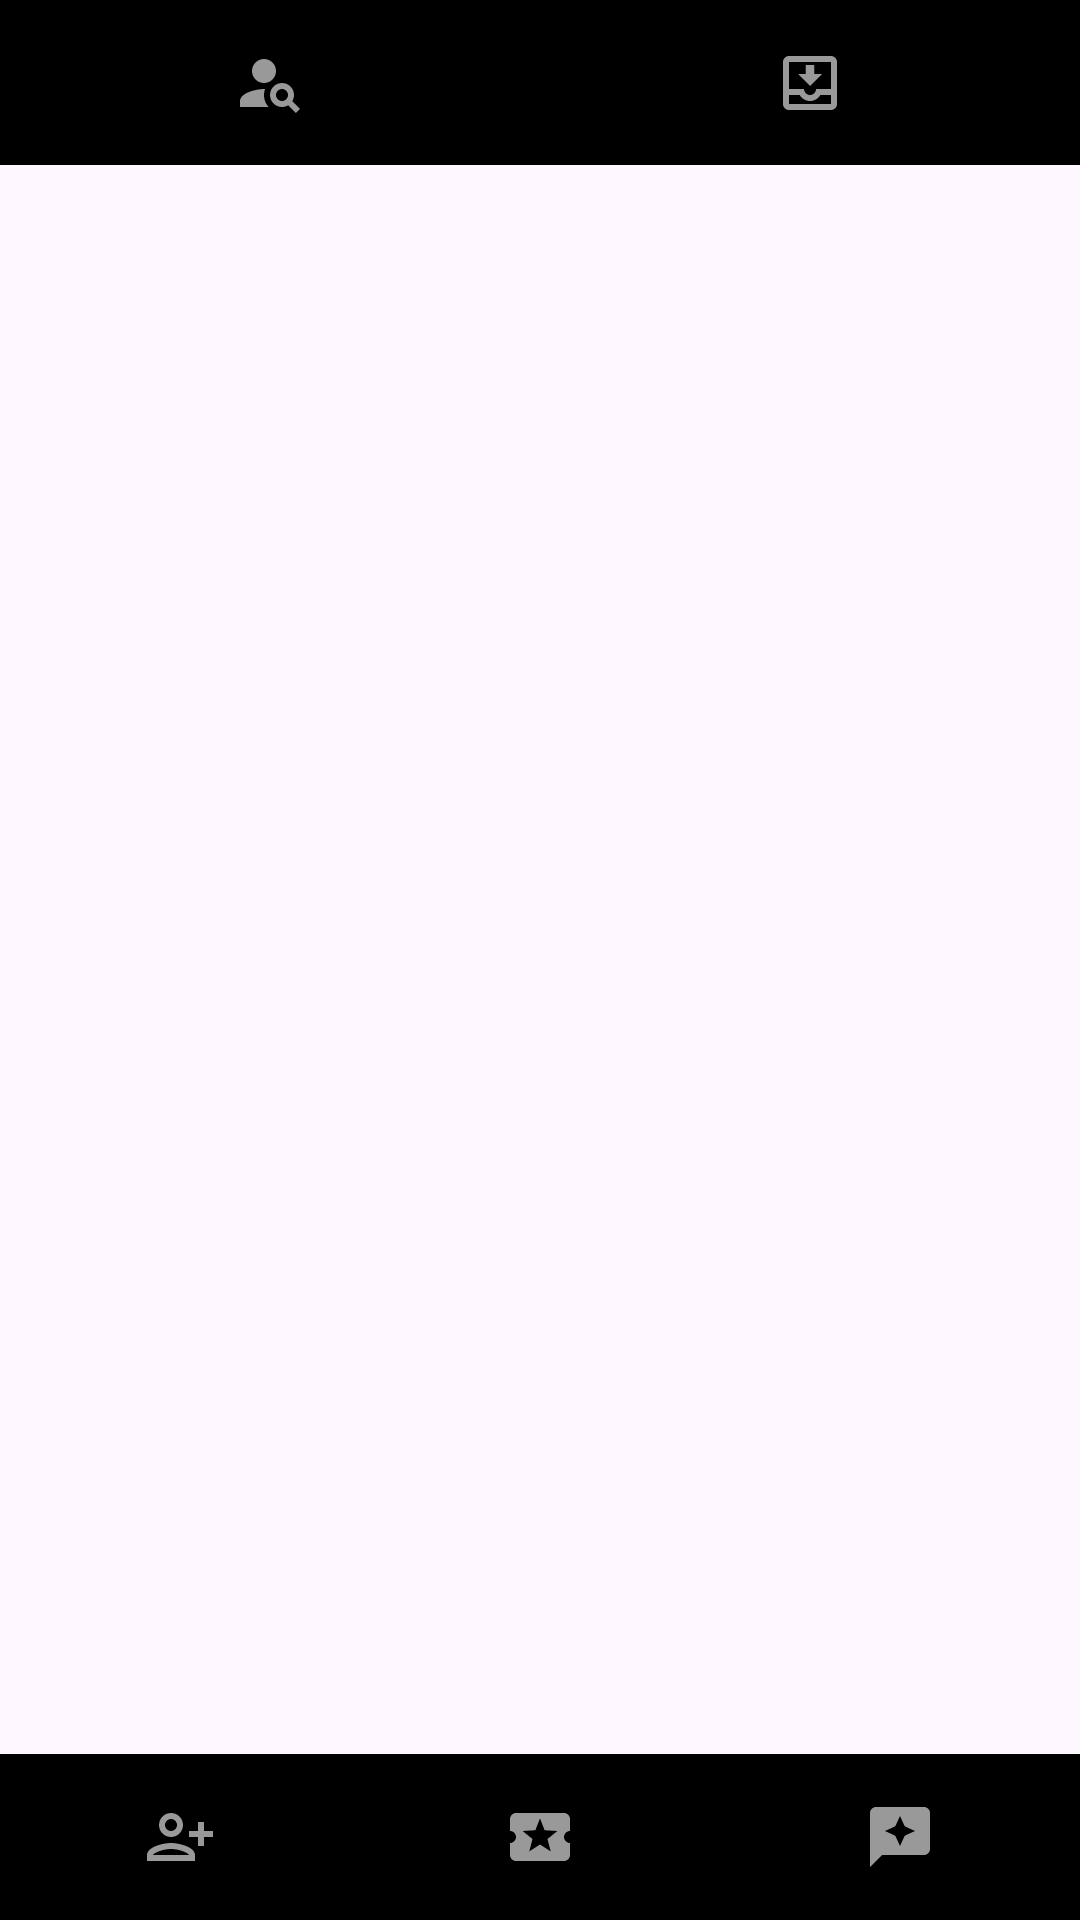

Named icons in this screenshot (1080*1920) and their centers, [x,y]:
local activity: [540,1837]
person add: [180,1837]
reviews: [900,1837]
